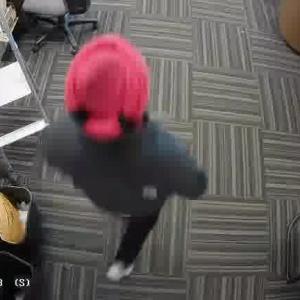person: (47, 40, 179, 243)
